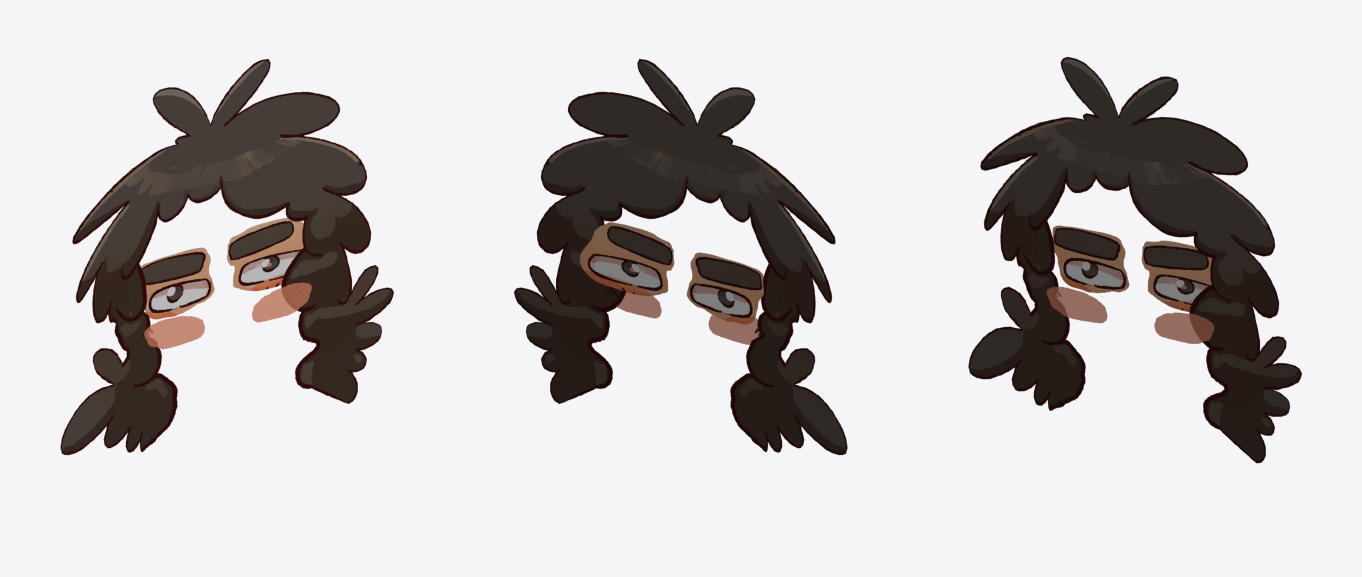
Rendered from Filter04.glb.
The picture shows the model from 3 angles, left to right: view 1: azimuth 30°, elevation 25°; view 2: azimuth 150°, elevation 25°; view 3: azimuth 330°, elevation 25°; orthographic projection.
Parts seen in each view (by area): view 1: Model04; view 2: Model04; view 3: Model04.
Part boxes in pixels (x1=…): Model04: x1=60, y1=59, x2=393, y2=454; Model04: x1=514, y1=59, x2=847, y2=454; Model04: x1=968, y1=56, x2=1301, y2=463.
Bounding box in the file's own units: 0.3296 × 0.3296 × 0.00824.
1 material, 1 textured.
